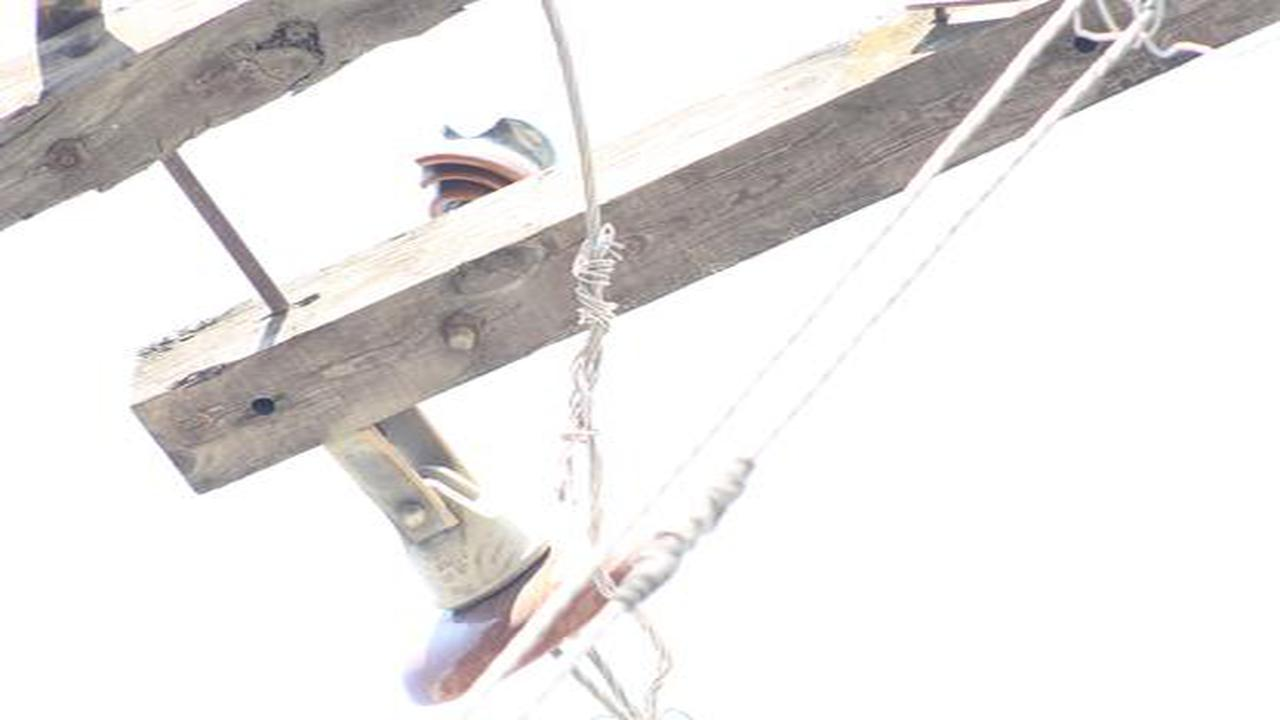defect_pin: (408, 110, 565, 209)
insulator_disc: (385, 467, 650, 707)
